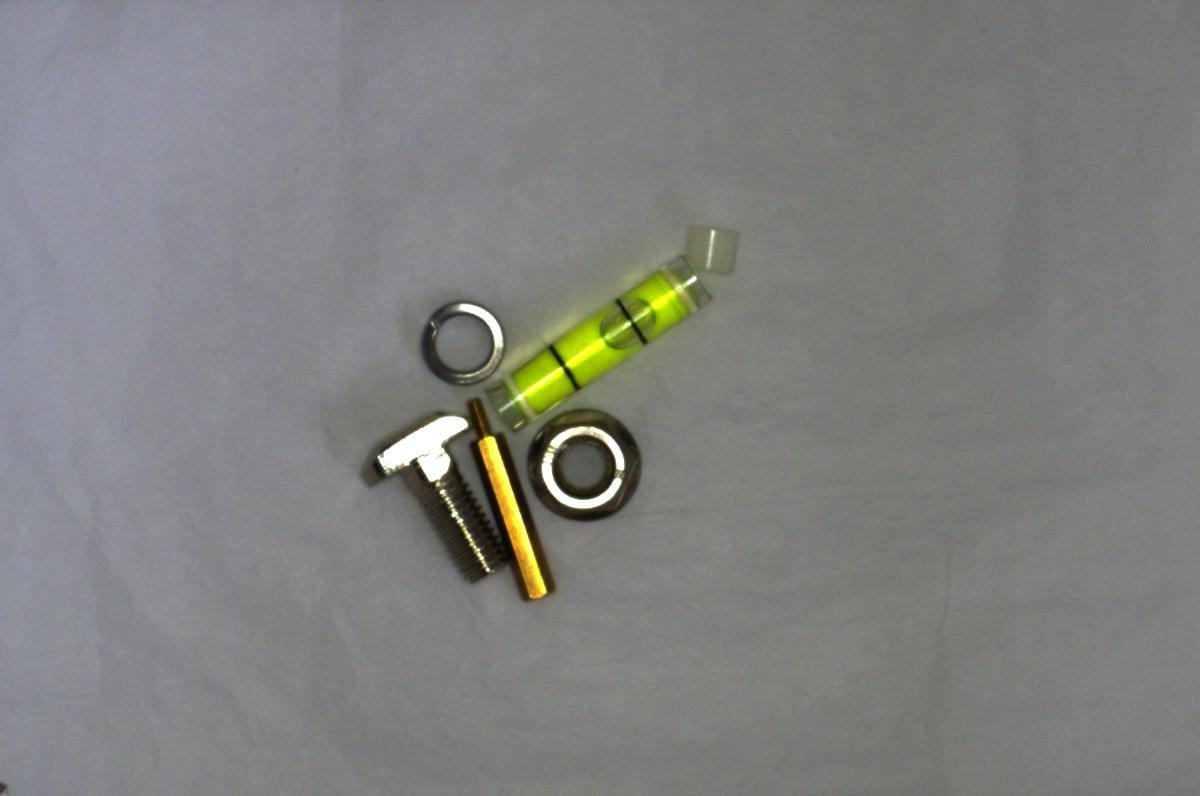Flange nut: (525, 408, 652, 526)
Hexagon pillar: (467, 385, 561, 606)
Horizontal bubble: (487, 252, 712, 430)
Plastic cushion pillar: (679, 219, 752, 280)
Spring washer: (419, 298, 505, 386)
T-shaped screw: (351, 402, 499, 585)
